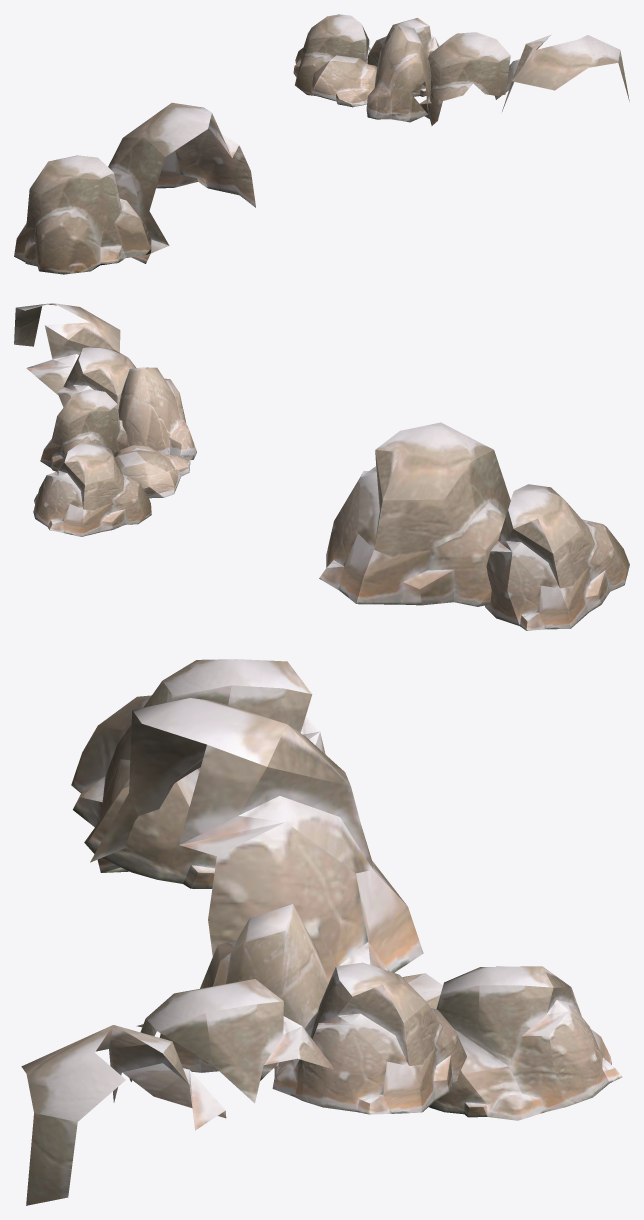
The model's file is pref_sm_beach_bk_winter_pointmol_rock_R01_lv0.fbx.
3 views of the same model, one above another, from view 1: azimuth 30°, elevation 25°; view 2: azimuth 150°, elevation 25°; view 3: azimuth 270°, elevation 25° (orthographic). The views are drawn at different scales.
Parts seen in each view (by area): view 1: pref_sm_beach_bk_winter_pointmol_rock_R01_lv0; view 2: pref_sm_beach_bk_winter_pointmol_rock_R01_lv0; view 3: pref_sm_beach_bk_winter_pointmol_rock_R01_lv0.
Boxes of the visible parts, box(x1,y1,x2,y2) form: pref_sm_beach_bk_winter_pointmol_rock_R01_lv0: box(14, 14, 629, 274); pref_sm_beach_bk_winter_pointmol_rock_R01_lv0: box(14, 303, 629, 630); pref_sm_beach_bk_winter_pointmol_rock_R01_lv0: box(21, 659, 622, 1205).
Size of the model in its own units: 20.19 by 4.8 by 9.27.
